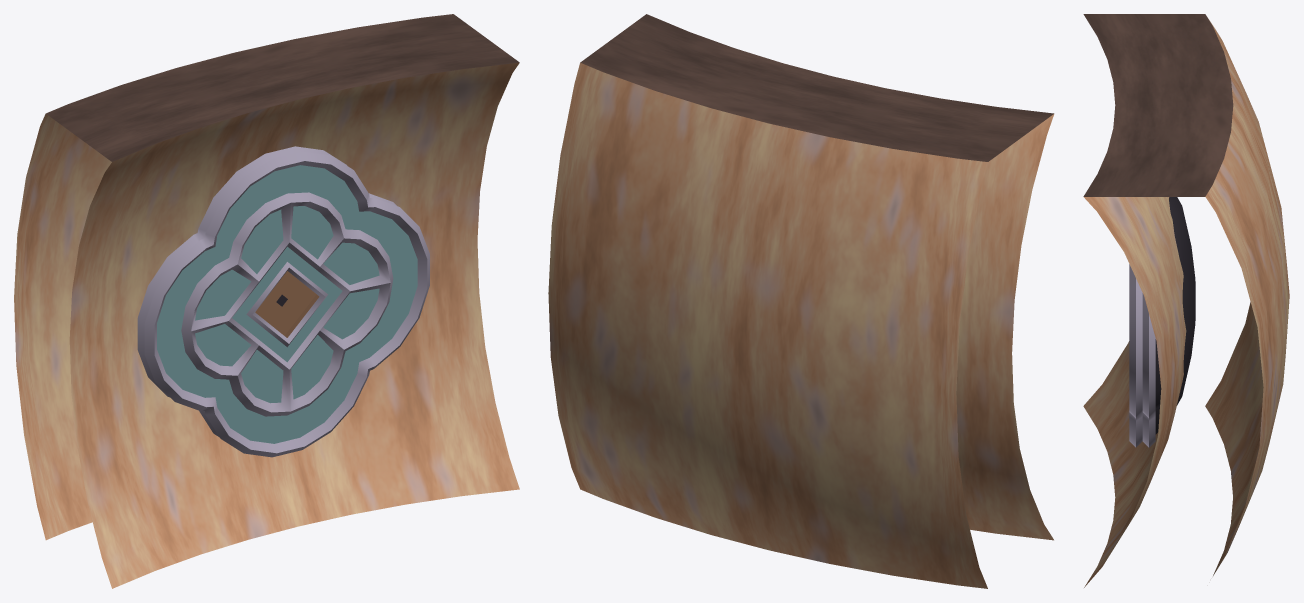
File: FI_027_francos_building_wall_key_cupboard_closed.glb
The picture shows the model from 3 angles, left to right: view 1: azimuth 30°, elevation 25°; view 2: azimuth 150°, elevation 25°; view 3: azimuth 270°, elevation 25°; orthographic projection. The views are drawn at different scales.
Visible parts, largest first — view 1: key_cupboard; view 2: key_cupboard; view 3: key_cupboard.
Part boxes in pixels (<box>): key_cupboard: <box>14,14,519,588</box>; key_cupboard: <box>548,14,1054,588</box>; key_cupboard: <box>1083,14,1289,587</box>.
Size of the model in its own units: 3 by 3 by 1.43.
6 materials, 2 textured.
